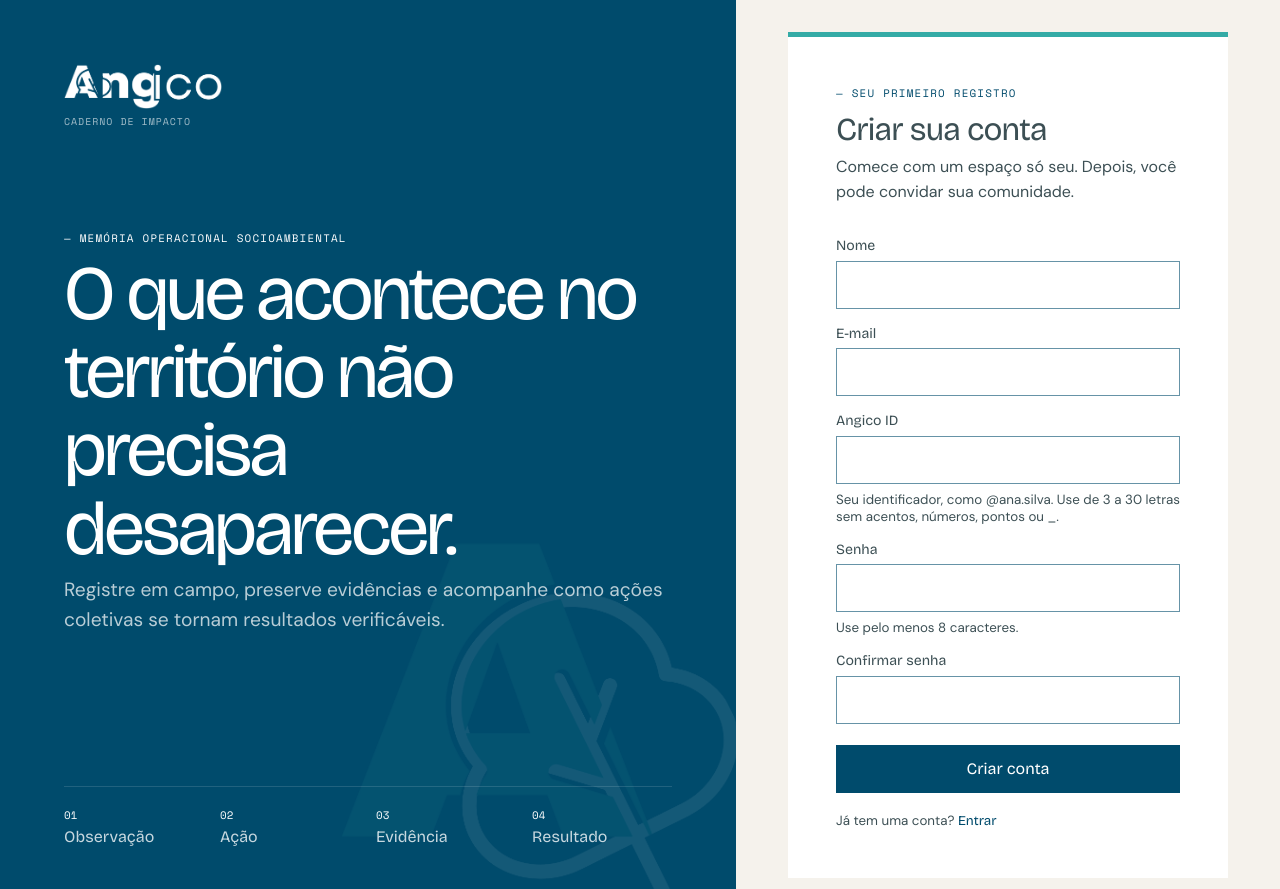
Test: LoginPage › does not send registration when the password confirmation differs
Type " Ana Silva " into the field labelled "Nome". click: (1008, 284)
box: [836,260,1180,308]
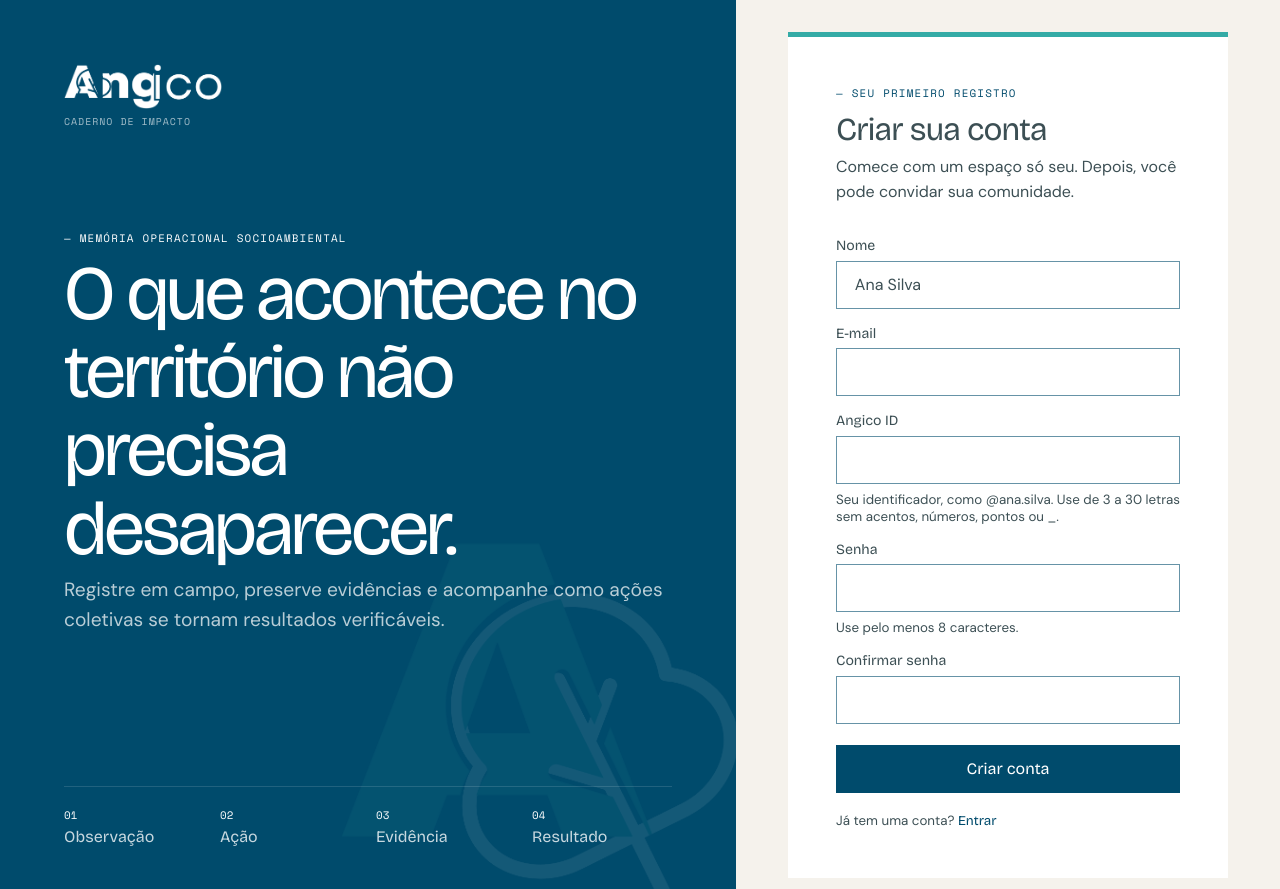
Type "ana@example.test" into the field labelled "E-mail". click: (1008, 372)
box: [836,348,1180,396]
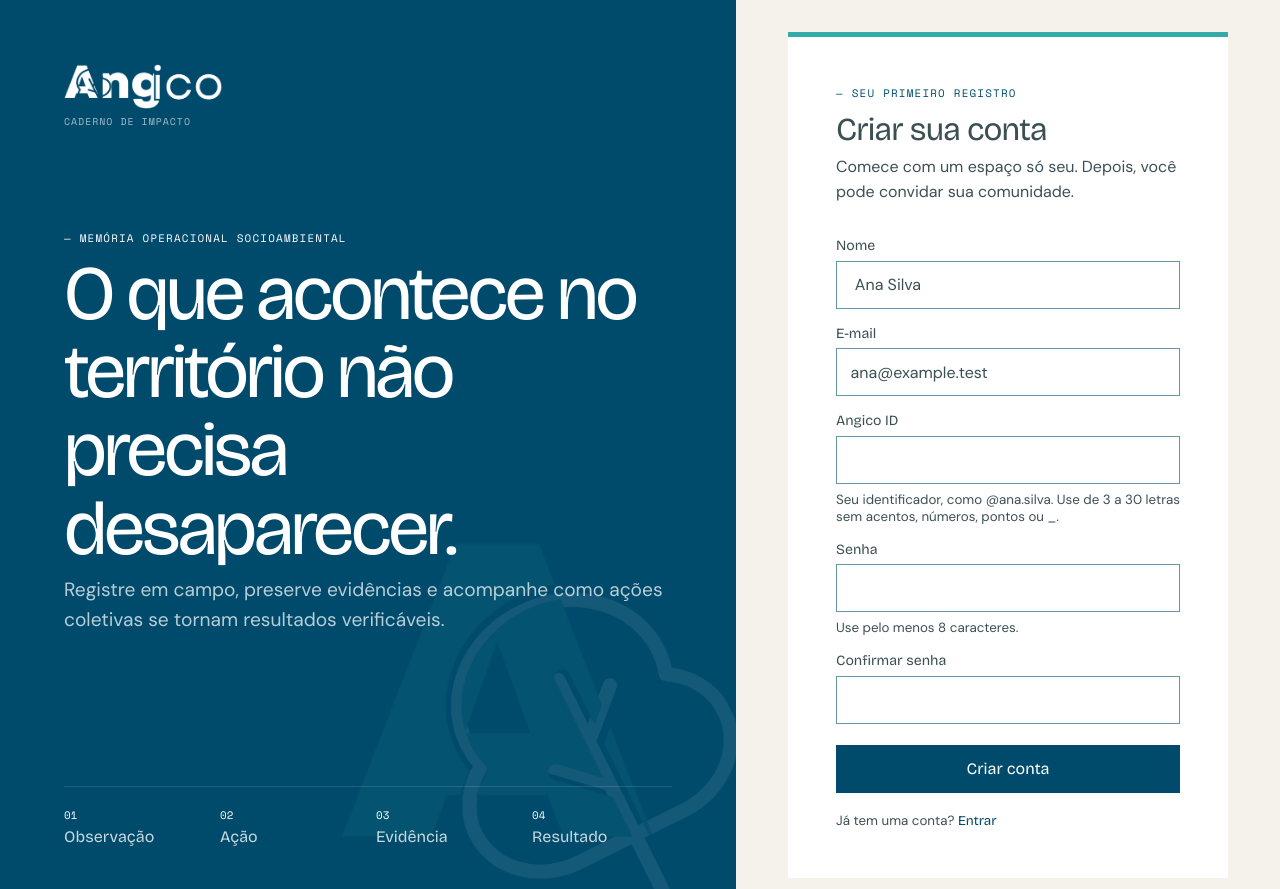
Type "@Ana.Silva" into the field labelled "Angico ID". click: (1008, 460)
box: [836,436,1180,484]
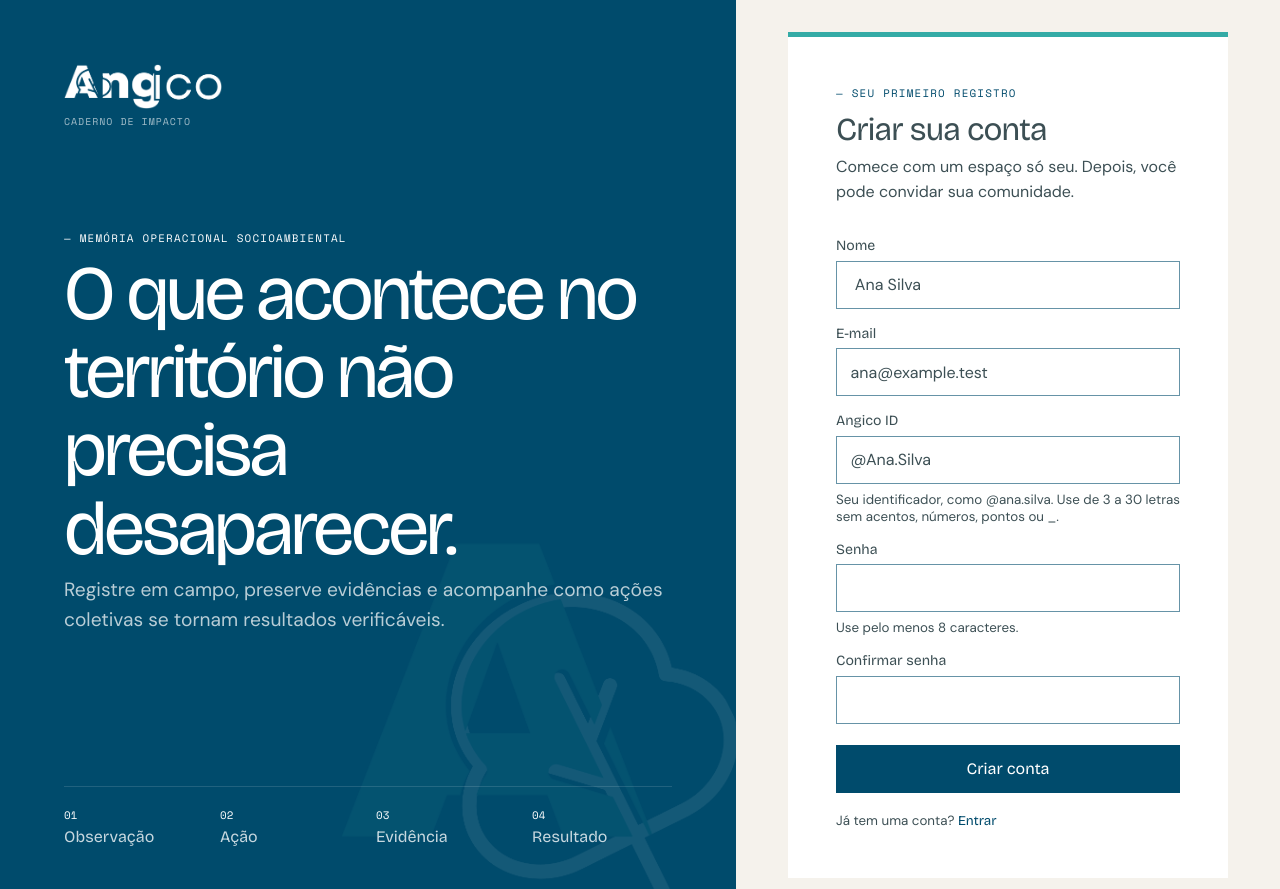
Type "senha-de-teste" into the password field labelled "Senha". click: (1008, 588)
box: [836,564,1180,612]
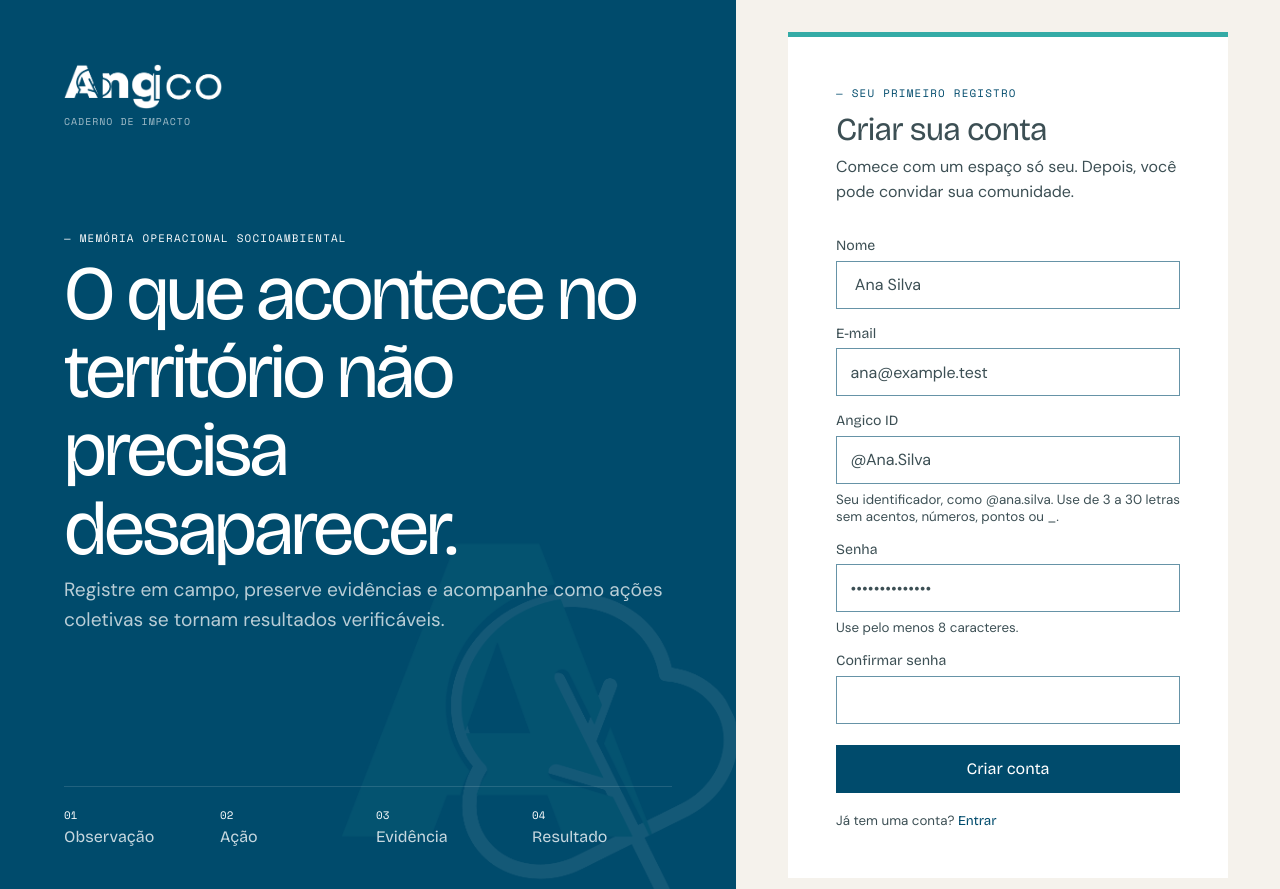
Type "outra-senha" into the password field labelled "Confirmar senha". click: (1008, 700)
box: [836,676,1180,724]
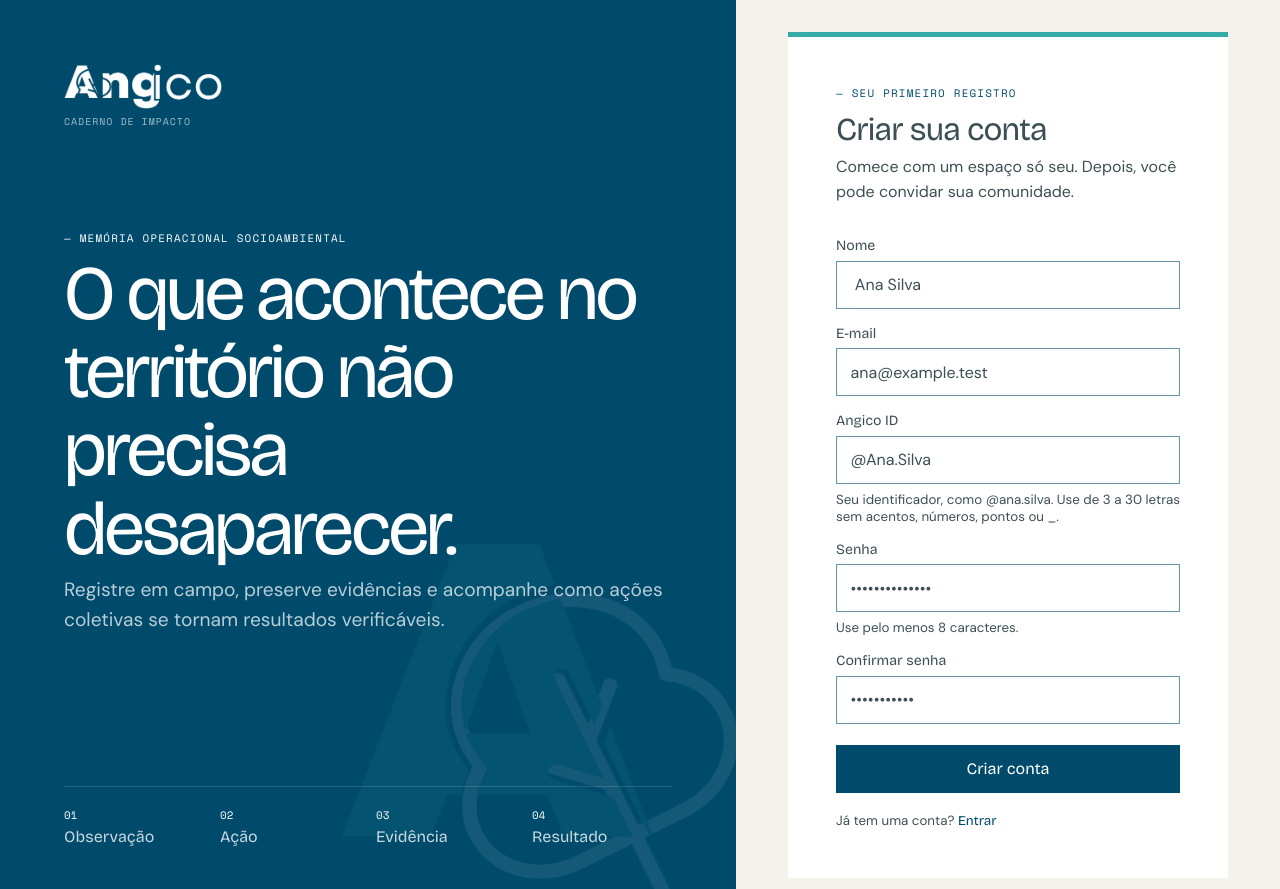
Click the button "Criar conta". click: (1008, 769)
box: [836,745,1180,793]
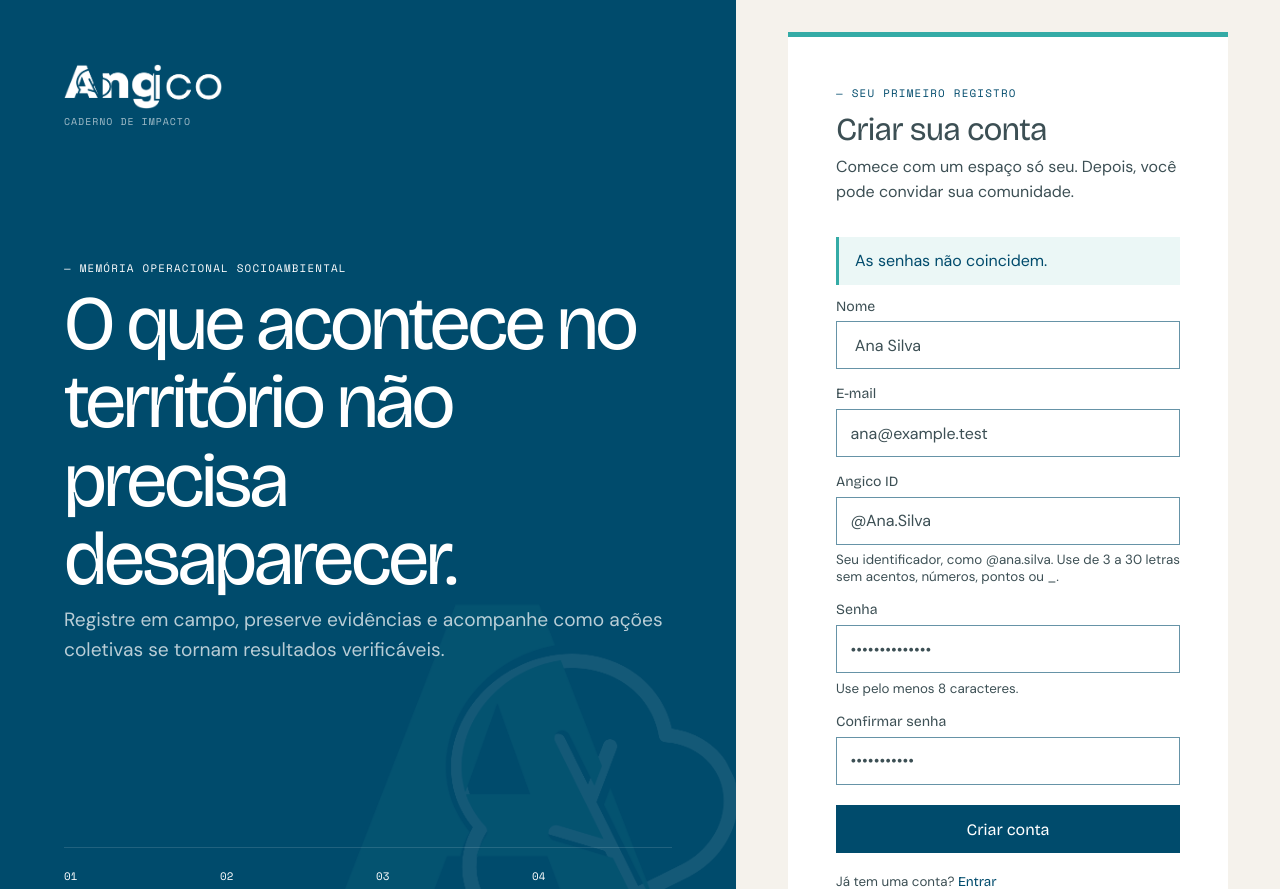
expect the message reads "As senhas não coincidem.": met, box [855,250,1047,271]
